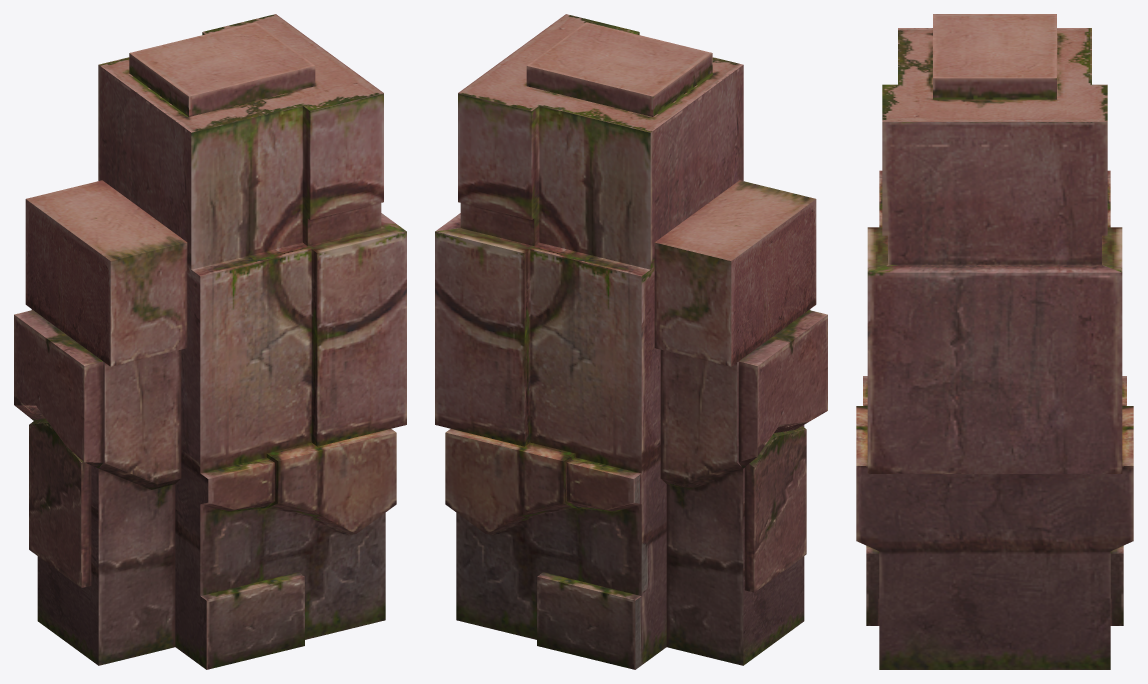
Rendered from yw_huanghunhupan_shiqiang05.FBX.
3 renders of one model, left to right at view 1: azimuth 30°, elevation 25°; view 2: azimuth 150°, elevation 25°; view 3: azimuth 270°, elevation 25°, orthographic. The views are drawn at different scales.
Visible parts, largest first — view 1: yw_huanghunhupan_shiqiang05; view 2: yw_huanghunhupan_shiqiang05; view 3: yw_huanghunhupan_shiqiang05.
Part boxes in pixels (box(x1,y1,x2,y2)): yw_huanghunhupan_shiqiang05: box(14, 14, 406, 669); yw_huanghunhupan_shiqiang05: box(435, 14, 827, 669); yw_huanghunhupan_shiqiang05: box(856, 14, 1133, 669).
Bounding box in the file's own units: 276 × 486 × 214.
